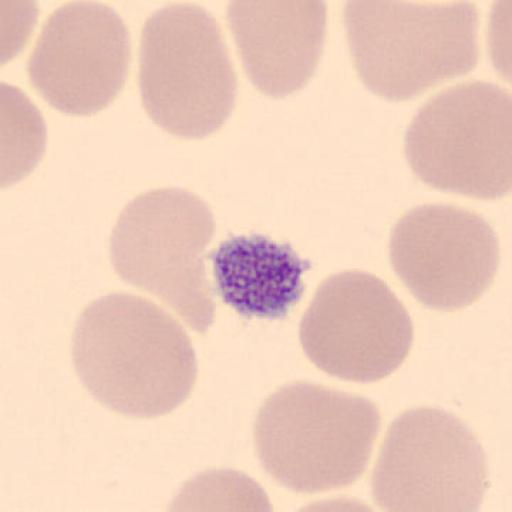Platelet: (209, 231, 312, 322)
RBC: (68, 289, 201, 420), (106, 184, 220, 334), (251, 377, 382, 497), (135, 1, 239, 141), (340, 1, 482, 102), (296, 268, 415, 388), (402, 78, 512, 203), (369, 403, 491, 512), (387, 200, 502, 313), (24, 0, 131, 118), (224, 1, 329, 101), (163, 465, 275, 512), (2, 81, 49, 191), (0, 0, 40, 69), (485, 0, 512, 83), (280, 495, 394, 512)
